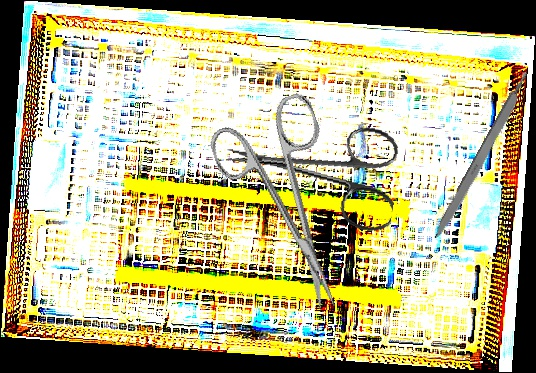Iris Scissors: (203, 90, 376, 327), (218, 106, 405, 234)
Scalpel Handle: (431, 70, 534, 243)
